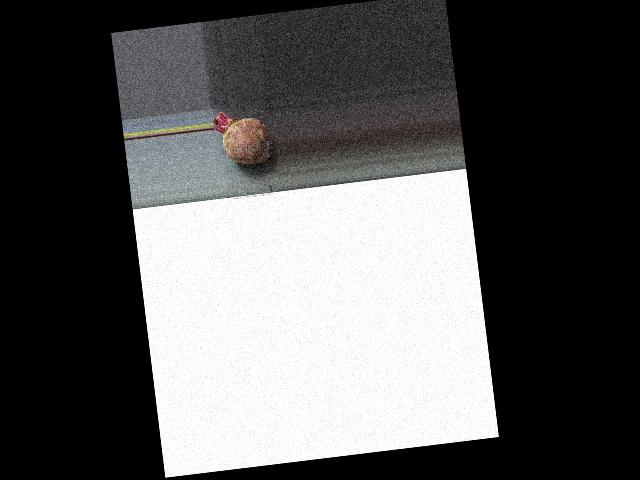beet: (211, 106, 273, 168)
